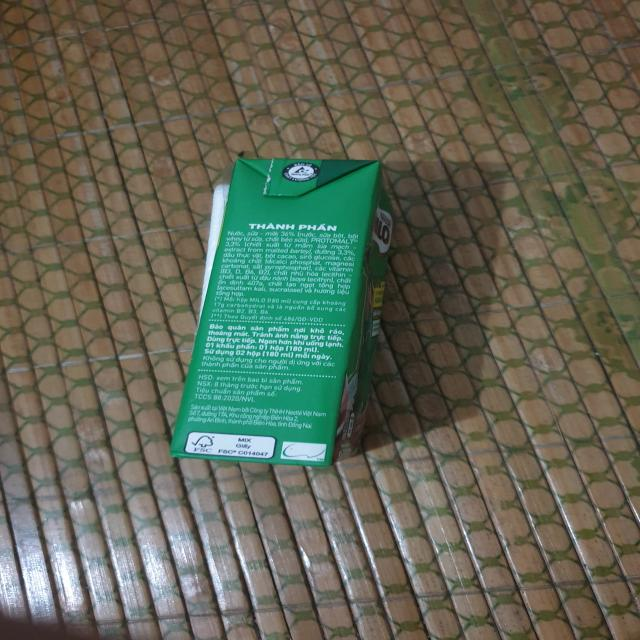Milo: (179, 155, 402, 469)
